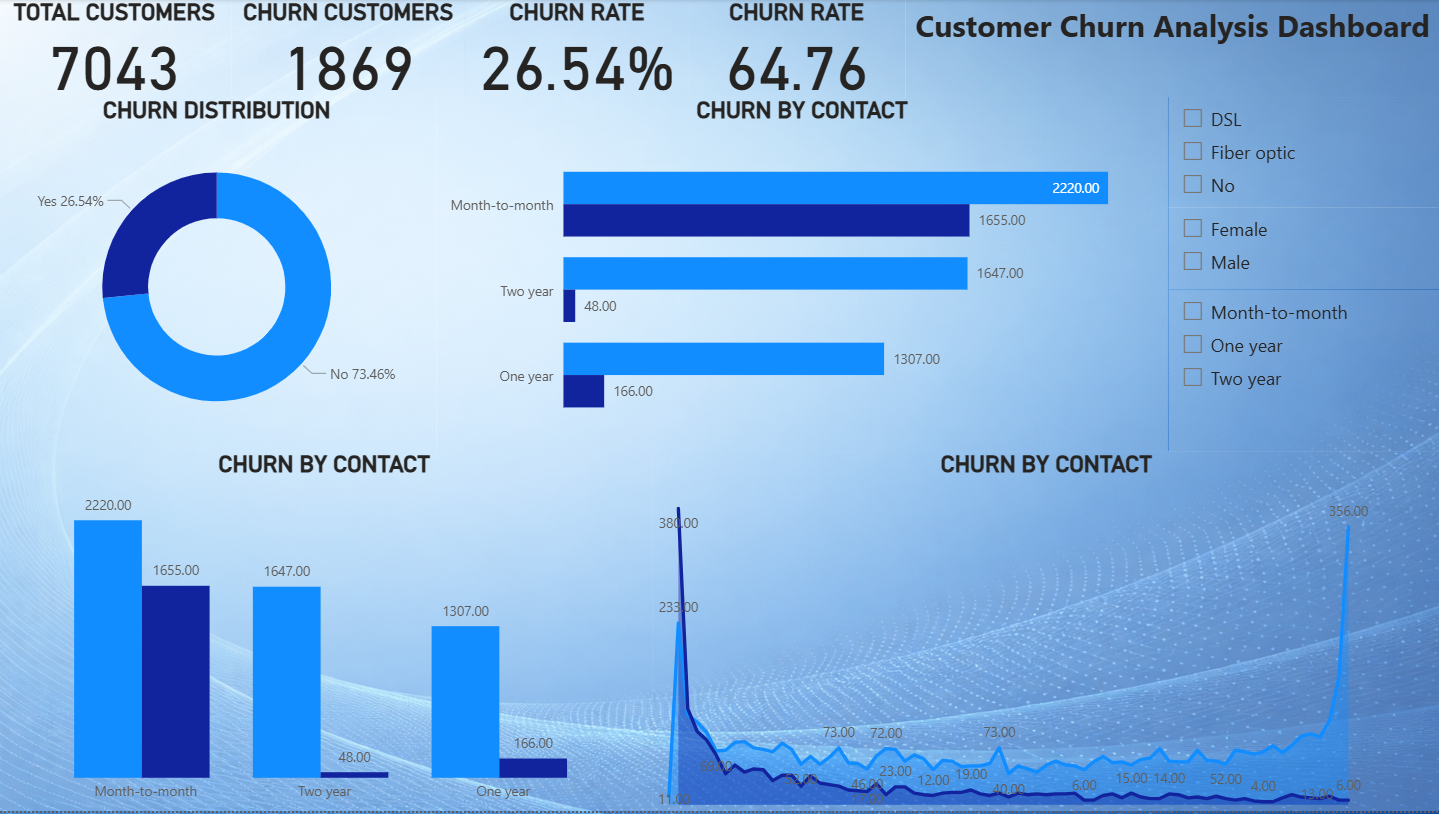

The page's visual inventory and layout, read from the dashboard file:
{"tool":"powerbi","page":{"name":"Page 1","canvas":[1280,720],"ordinal":0},"visuals":[{"type":"card","title":"TOTAL CUSTOMERS","fields":{"Values":["churn_ana customers.Total Customers"]},"box":[0,0,207.8,86.9],"z":0},{"type":"card","title":"CHURN CUSTOMERS","fields":{"Values":["churn_ana customers.Churn Customers"]},"box":[207.8,0,207.8,86.9],"z":1000},{"type":"card","title":"CHURN RATE","fields":{"Values":["churn_ana customers.Churn Rate"]},"box":[415.7,0,196.8,86.9],"z":2000},{"type":"card","title":"CHURN RATE","fields":{"Values":["churn_ana customers.Avg Charges"]},"box":[612.5,0,192.8,86.9],"z":3000},{"type":"donutChart","title":"CHURN DISTRIBUTION","fields":{"Category":["churn_ana customers.Churn"],"Y":["CountNonNull(churn_ana customers.customerID)"]},"box":[0,86.9,389.7,313.8],"z":4000},{"type":"clusteredBarChart","title":"CHURN BY CONTACT","fields":{"Category":["churn_ana customers.Contract"],"Y":["CountNonNull(churn_ana customers.customerID)"],"Series":["churn_ana customers.Churn"]},"box":[389.7,86.9,649.5,313.8],"z":5000},{"type":"clusteredColumnChart","title":"CHURN BY CONTACT","fields":{"Category":["churn_ana customers.Contract"],"Y":["CountNonNull(churn_ana customers.customerID)"],"Series":["churn_ana customers.Churn"]},"box":[0,400.7,580.5,319.8],"z":6000},{"type":"areaChart","title":"CHURN BY CONTACT","fields":{"Category":["churn_ana customers.tenure"],"Y":["CountNonNull(churn_ana customers.customerID)"],"Series":["churn_ana customers.Churn"]},"box":[580.5,400.7,699.5,319.8],"z":7000},{"type":"textbox","box":[805.4,0,474.6,86.9],"z":7001},{"type":"slicer","fields":{"Values":["churn_ana customers.InternetService"]},"box":[1039.2,86.9,240.8,97.9],"z":7002},{"type":"slicer","fields":{"Values":["churn_ana customers.gender"]},"box":[1039.2,184.9,240.8,72.9],"z":7003},{"type":"slicer","fields":{"Values":["churn_ana customers.Contract"]},"box":[1039.2,257.8,240.8,142.9],"z":7004}]}

Visuals, with their boxes in screenshot pixels (x1, y1, x2, y2), scaled from the page's 1280x720 canvas onto the 1439x814 screenshot:
"TOTAL CUSTOMERS" card: Rect(0, 0, 234, 98)
"CHURN CUSTOMERS" card: Rect(234, 0, 467, 98)
"CHURN RATE" card: Rect(467, 0, 689, 98)
"CHURN RATE" card: Rect(689, 0, 905, 98)
"CHURN DISTRIBUTION" donutChart: Rect(0, 98, 438, 453)
"CHURN BY CONTACT" clusteredBarChart: Rect(438, 98, 1168, 453)
"CHURN BY CONTACT" clusteredColumnChart: Rect(0, 453, 653, 813)
"CHURN BY CONTACT" areaChart: Rect(653, 453, 1438, 813)
textbox: Rect(905, 0, 1438, 98)
slicer - churn_ana customers.InternetService: Rect(1168, 98, 1438, 209)
slicer - churn_ana customers.gender: Rect(1168, 209, 1438, 291)
slicer - churn_ana customers.Contract: Rect(1168, 291, 1438, 453)
